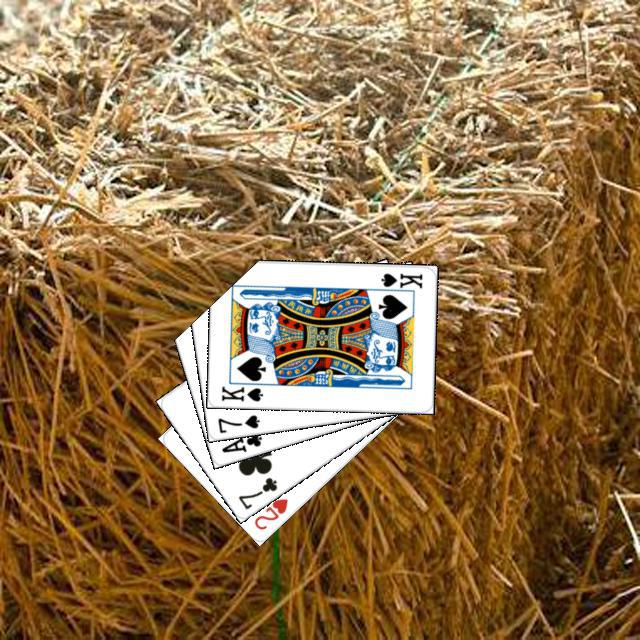2h: (249, 493, 290, 532)
7c: (233, 472, 279, 511)
7s: (213, 410, 261, 435)
Ac: (216, 427, 264, 454)
Ks: (372, 268, 424, 293), (216, 381, 264, 403)
